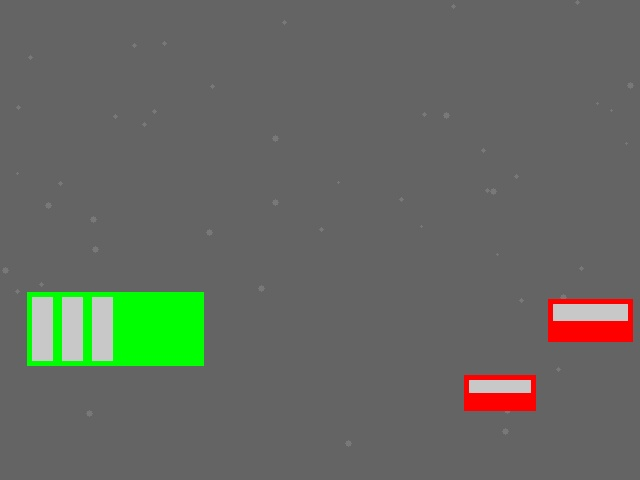bus: (27, 292, 203, 365)
car: (548, 299, 632, 341), (464, 375, 535, 410)
